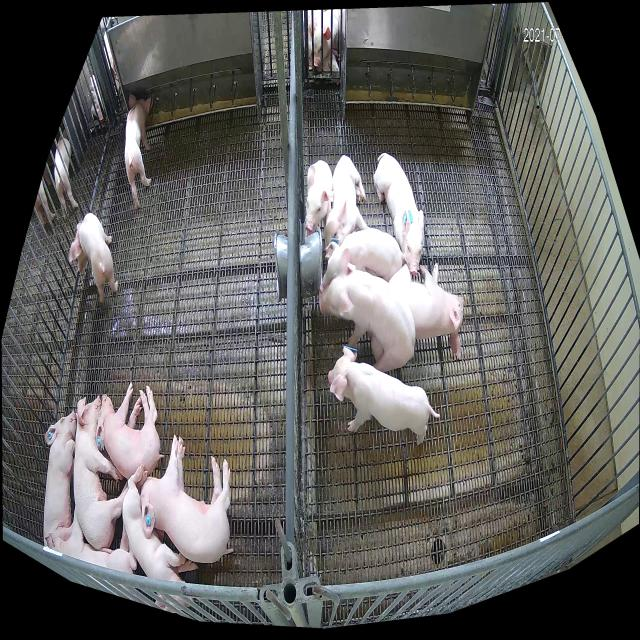pig: (318, 249, 416, 372), (140, 434, 233, 562), (328, 345, 440, 448), (122, 464, 198, 611), (73, 395, 129, 552), (387, 263, 465, 358), (97, 381, 164, 479), (373, 152, 424, 276), (45, 507, 137, 575), (320, 229, 402, 292), (324, 155, 368, 261), (69, 213, 118, 302), (44, 410, 76, 540), (124, 93, 151, 209), (304, 160, 334, 232)
